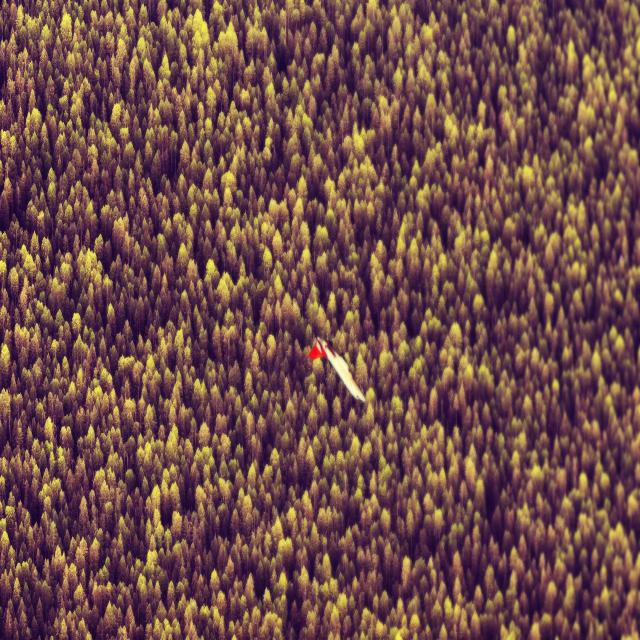airplane: (307, 335, 366, 403)
